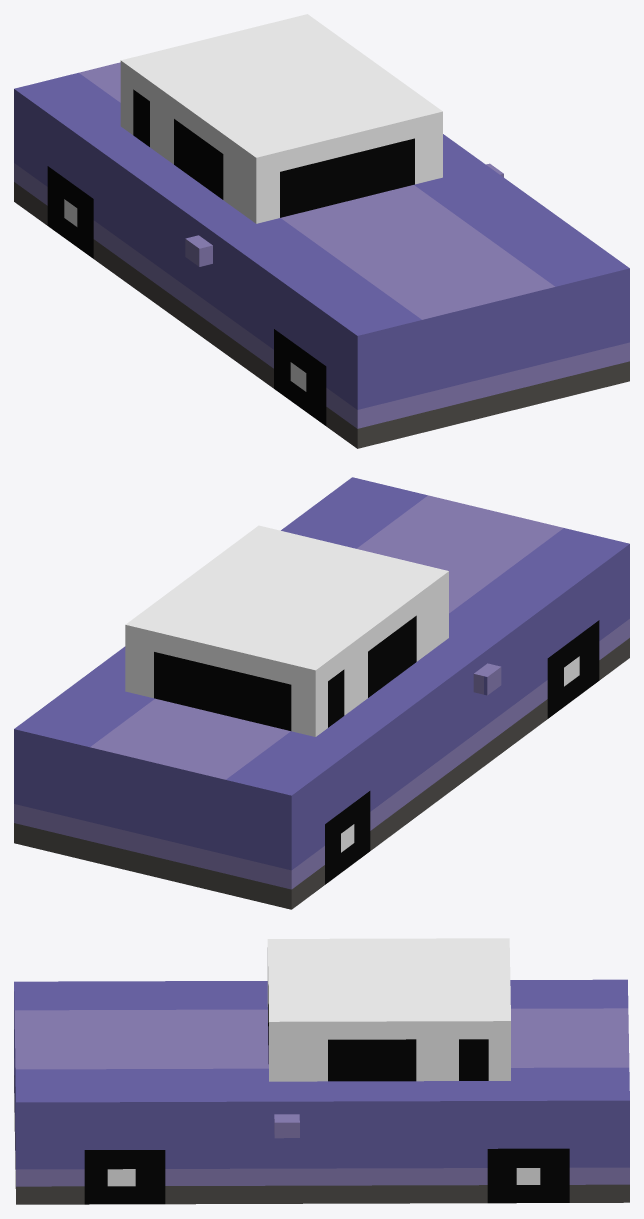
Rendered from Car01.fbx.
The picture shows the model from 3 angles, top to bottom: view 1: azimuth 30°, elevation 25°; view 2: azimuth 150°, elevation 25°; view 3: azimuth 270°, elevation 25°; orthographic projection. The views are drawn at different scales.
Visible parts, largest first — view 1: Cube; view 2: Cube; view 3: Cube.
Boxes of the visible parts, <box> form: Cube: <box>14,14,629,448</box>; Cube: <box>14,477,629,909</box>; Cube: <box>14,938,629,1204</box>.
Size of the model in its own units: 107 by 59.97 by 207.
